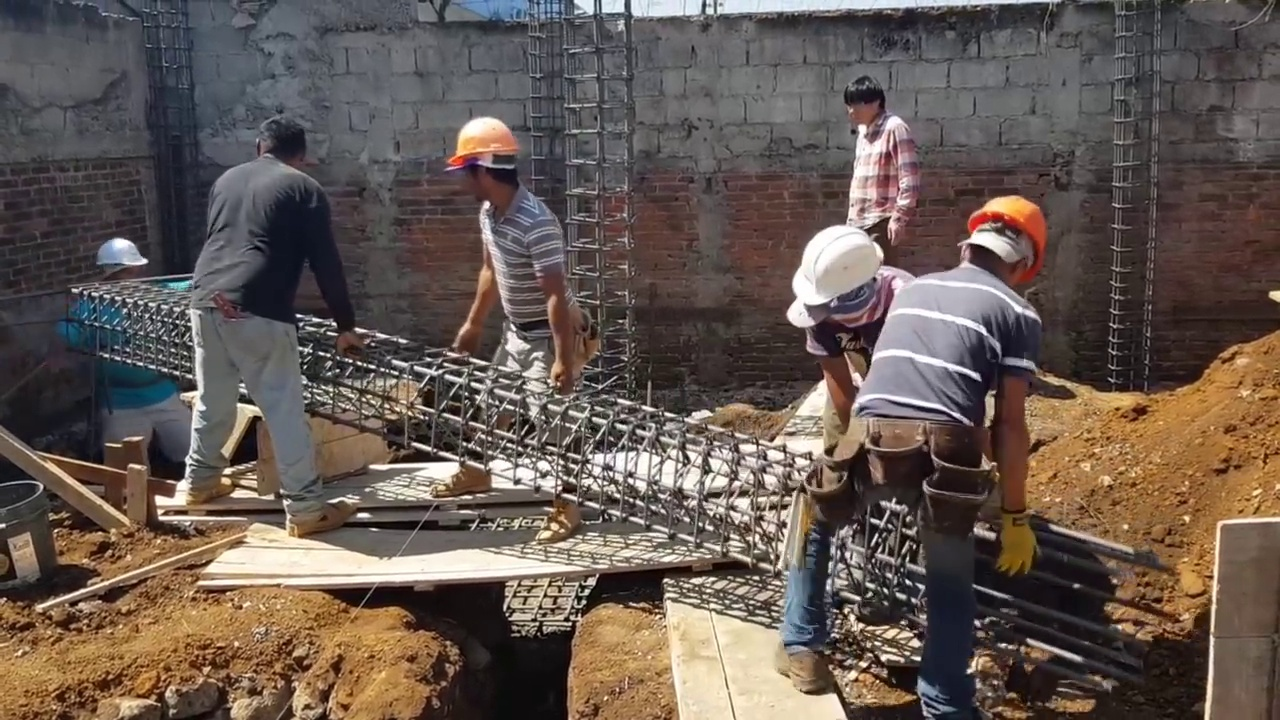helmet: (796, 222, 882, 312), (970, 195, 1049, 272), (439, 119, 523, 174), (95, 238, 147, 267)
helmet-off: (251, 118, 308, 169), (846, 73, 889, 125)
helmet-on: (788, 219, 888, 332), (954, 197, 1053, 289), (441, 118, 523, 210), (97, 238, 148, 284)
person: (784, 186, 1056, 711), (179, 115, 368, 548), (441, 106, 592, 507), (780, 220, 923, 458), (58, 236, 193, 470), (832, 72, 922, 250)
